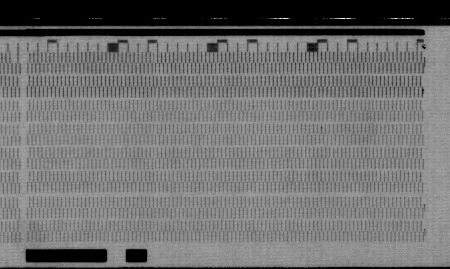Broken hole: (8, 52, 20, 66)
Oblique printing: (420, 219, 431, 235), (420, 51, 430, 68), (419, 195, 429, 212)
